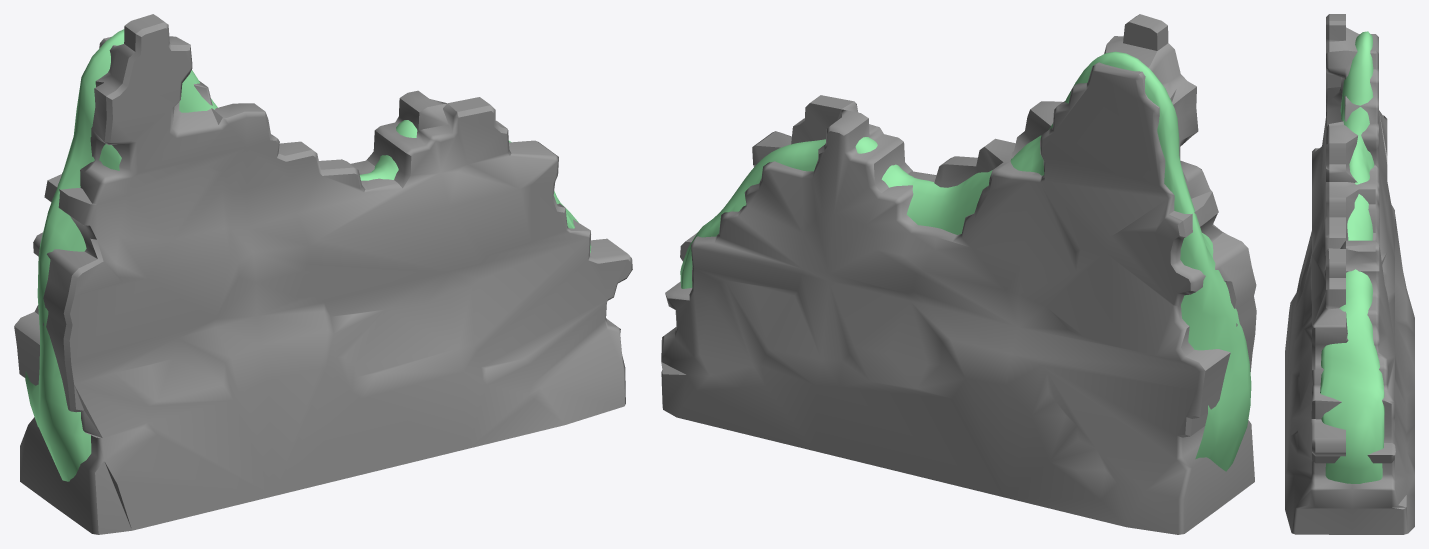
The model's file is SM_Castle_Wall_D.fbx.
3 renders of one model, left to right at view 1: azimuth 30°, elevation 25°; view 2: azimuth 150°, elevation 25°; view 3: azimuth 270°, elevation 25°, orthographic. The views are drawn at different scales.
Parts seen in each view (by area): view 1: SM_Castle_Wall_D_LOD0; view 2: SM_Castle_Wall_D_LOD0; view 3: SM_Castle_Wall_D_LOD0.
Part boxes in pixels (box(x1,y1,x2,y2)): SM_Castle_Wall_D_LOD0: box(14, 14, 632, 534); SM_Castle_Wall_D_LOD0: box(661, 14, 1256, 534); SM_Castle_Wall_D_LOD0: box(1285, 14, 1414, 534).
Size of what is drawn, in the model's own units: 1076 by 844 by 281.
